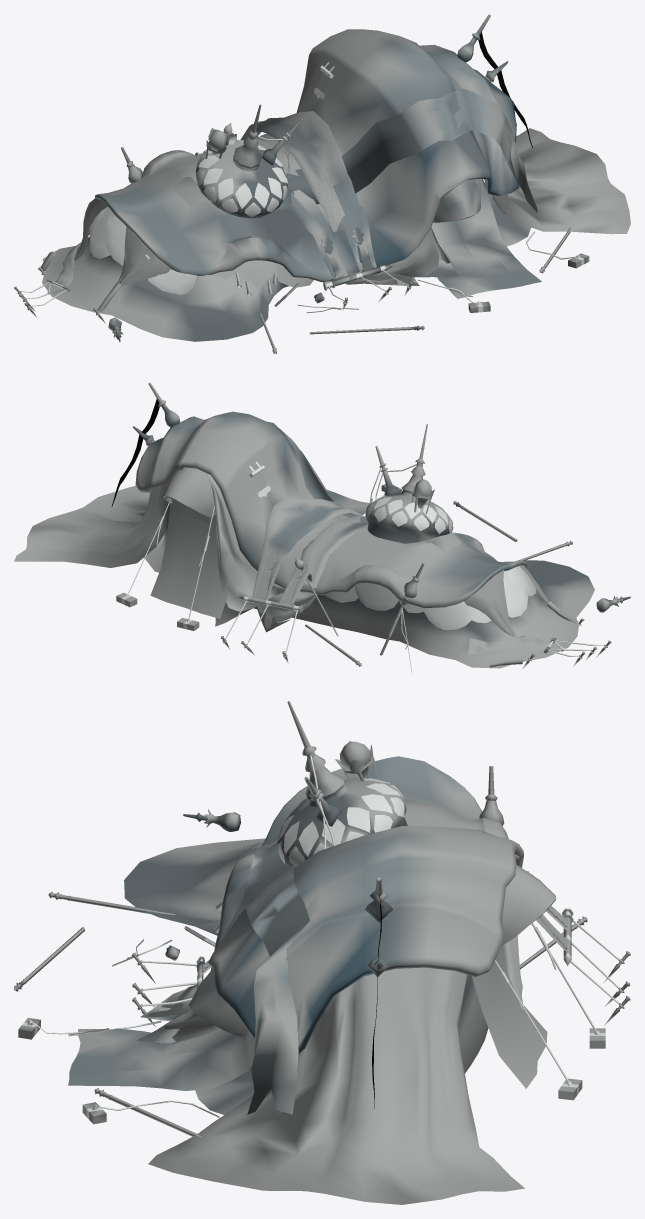
3 views of the same model, one above another, from view 1: azimuth 30°, elevation 25°; view 2: azimuth 150°, elevation 25°; view 3: azimuth 270°, elevation 25° (orthographic). The views are drawn at different scales.
Parts seen in each view (by area): view 1: G:\FFXIV-MapTools\exports\g3t1\bg\ex2\01_gyr_g3\twn\g3t1\bgp (×7); view 2: G:\FFXIV-MapTools\exports\g3t1\bg\ex2\01_gyr_g3\twn\g3t1\bgp (×9); view 3: G:\FFXIV-MapTools\exports\g3t1\bg\ex2\01_gyr_g3\twn\g3t1\bgp (×8).
Part boxes in pixels (x1=…): G:\FFXIV-MapTools\exports\g3t1\bg\ex2\01_gyr_g3\twn\g3t1\bgp (×7): x1=14, y1=14, x2=630, y2=353; G:\FFXIV-MapTools\exports\g3t1\bg\ex2\01_gyr_g3\twn\g3t1\bgp (×9): x1=14, y1=382, x2=630, y2=672; G:\FFXIV-MapTools\exports\g3t1\bg\ex2\01_gyr_g3\twn\g3t1\bgp (×8): x1=14, y1=701, x2=630, y2=1204.
Size of the model in its own units: 24.41 by 7.83 by 15.5.
